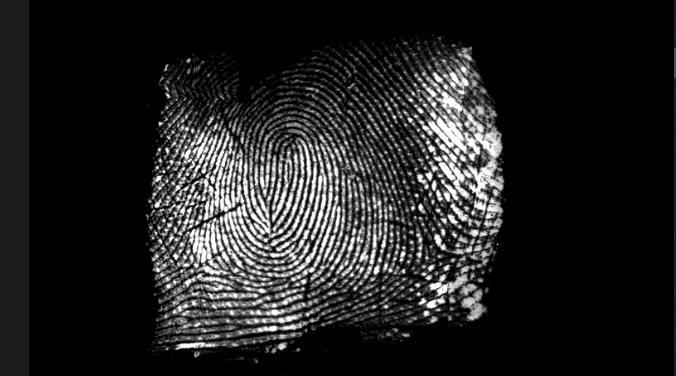deltas: (173, 235, 231, 290), (407, 223, 451, 271)
nucleo: (258, 126, 304, 175)
